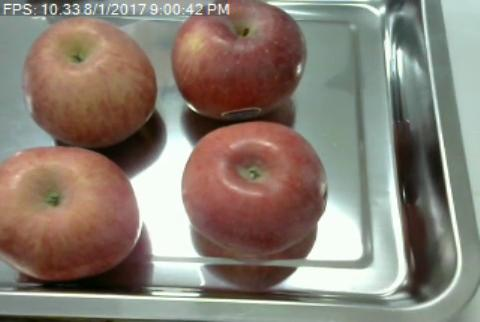apple: (179, 121, 330, 256), (0, 147, 140, 280), (21, 16, 158, 145), (171, 15, 308, 120)
